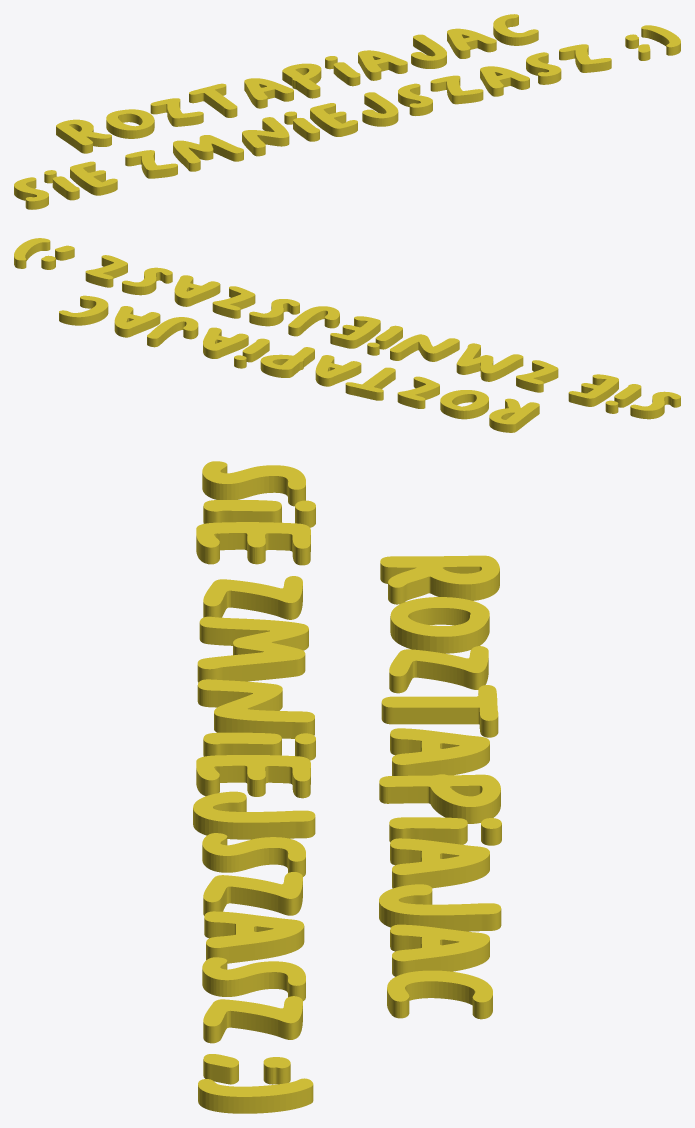
File: roztapianie.fbx
3 views of the same model, one above another, from view 1: azimuth 30°, elevation 25°; view 2: azimuth 150°, elevation 25°; view 3: azimuth 270°, elevation 25° (orthographic). The views are drawn at different scales.
Visible parts, largest first — view 1: roztapianie; view 2: roztapianie; view 3: roztapianie.
Part boxes in pixels (box(x1,y1,x2,y2)): roztapianie: box(14, 14, 680, 209); roztapianie: box(14, 238, 680, 432); roztapianie: box(193, 461, 501, 1113).
Bounding box in the file's own units: 809 × 10 × 166.
